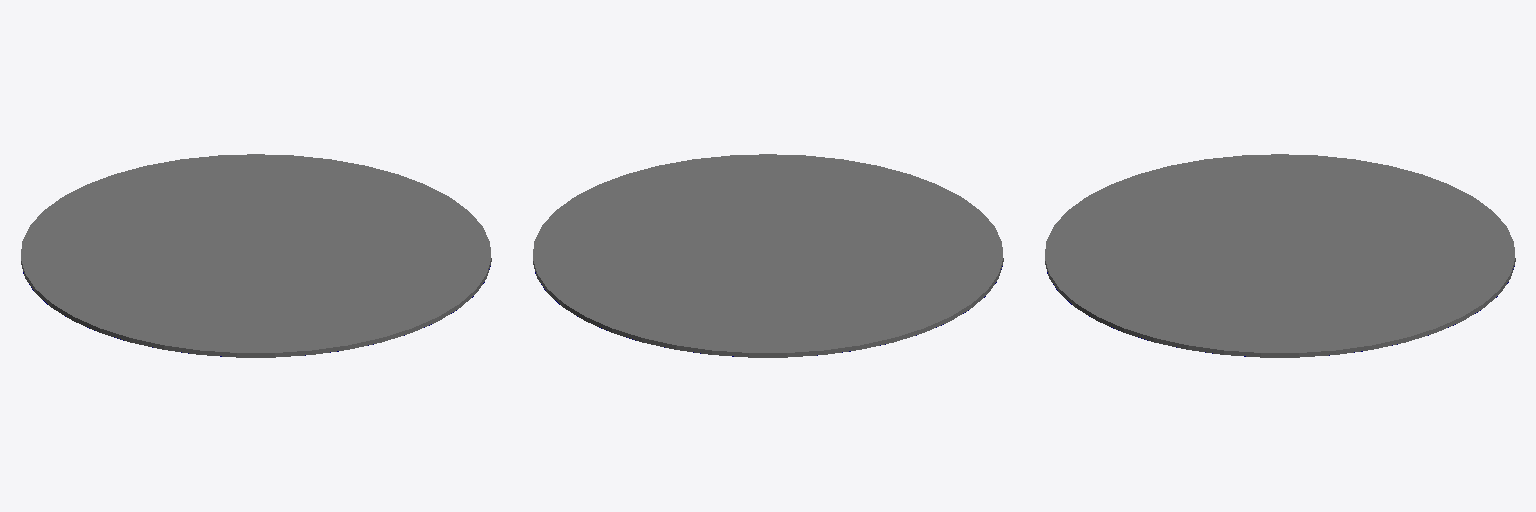
robot.urdf — end_effector_v_l.SLDASM:
<?xml version="1.0" encoding="utf-8"?>
<!-- This URDF was automatically created by SolidWorks to URDF Exporter! Originally created by [author] ([email redacted]) 
     Commit Version: 1.6.0-4-g7f85cfe  Build Version: 1.6.7995.38578
     For more information, please see http://wiki.ros.org/sw_urdf_exporter -->
<robot
  name="end_effector_v_l.SLDASM">
  <link
    name="ee_in">
    <inertial>
      <origin
        xyz="-6.9184E-18 -5.6766E-35 0.0005"
        rpy="0 0 0" />
      <mass
        value="0" />
      <inertia
        ixx="2.9898E-05"
        ixy="-1.6987E-37"
        ixz="1.2475E-23"
        iyy="2.9898E-05"
        iyz="1.2291E-39"
        izz="5.9787E-05" />
    </inertial>
    <visual>
      <origin
        xyz="0 0 0"
        rpy="0 0 0" />
      <geometry>
        <mesh
          filename="package://end_effector_v_l.SLDASM/meshes/ee_in.STL" />
      </geometry>
      <material
        name="blue">
        <color
          rgba="0 0 0.5 1" />
      </material>
    </visual>
    <collision>
      <origin
        xyz="0 0 0"
        rpy="0 0 0" />
      <geometry>
        <mesh
          filename="package://end_effector_v_l.SLDASM/meshes/ee_in.STL" />
      </geometry>
    </collision>
  </link>
  <link
    name="ee_body">
    <inertial>
      <origin
        xyz="-6.9184E-18 -5.6766E-35 0.0005"
        rpy="0 0 0" />
      <mass
        value="0.05413" />
      <inertia
        ixx="2.9898E-05"
        ixy="-1.6987E-37"
        ixz="1.2475E-23"
        iyy="2.9898E-05"
        iyz="1.2291E-39"
        izz="5.9787E-05" />
    </inertial>
    <visual>
      <origin
        xyz="0 0 0"
        rpy="0 0 0" />
      <geometry>
        <mesh
          filename="package://end_effector_v_l.SLDASM/meshes/ee_body.STL" />
      </geometry>
      <material
        name="body">
        <color
          rgba="0.5 0.5 0.5 1" />
      </material>
    </visual>
    <collision>
      <origin
        xyz="0 0 0"
        rpy="0 0 0" />
      <geometry>
        <mesh
          filename="package://end_effector_v_l.SLDASM/meshes/ee_body.STL" />
      </geometry>
    </collision>
  </link>
  <joint
    name="ee_large"
    type="fixed">
    <origin
      xyz="0 0 0"
      rpy="0 0 0" />
    <parent
      link="ee_in" />
    <child
      link="ee_body" />
    <axis
      xyz="0 0 0" />
  </joint>
</robot>

--- Render facts (derived) ---
The picture shows the robot from 3 angles, left to right: view 1: azimuth 30°, elevation 25°; view 2: azimuth 150°, elevation 25°; view 3: azimuth 270°, elevation 25°; orthographic projection.
Robot: end_effector_v_l.SLDASM — 2 links, 1 joints (1 fixed); root link ee_in; default pose: all joints at 0.
Visible links, largest first — view 1: ee_body; view 2: ee_body; view 3: ee_body.
Link boxes in pixels (box(x1,y1,x2,y2)): ee_body: box(21, 154, 491, 357); ee_body: box(533, 154, 1003, 357); ee_body: box(1045, 154, 1515, 357).
Bounding box of the posed robot: 0.094 × 0.094 × 0.001 m (x, y, z).
Meshes: 2 distinct files referenced, 2 mesh visuals loaded (2 binary STL).